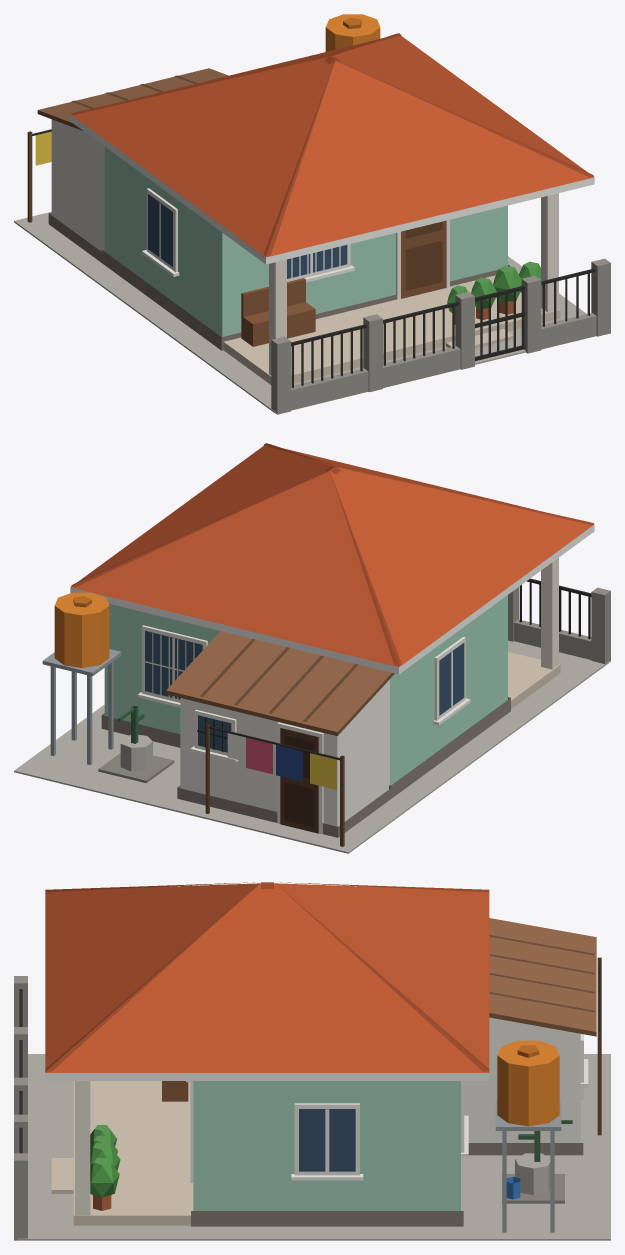
File: rumah_03.glb
3 views of the same model, one above another, from view 1: azimuth 30°, elevation 25°; view 2: azimuth 150°, elevation 25°; view 3: azimuth 270°, elevation 25° (orthographic). The views are drawn at different scales.
Visible parts, largest first — view 1: rumah_03; view 2: rumah_03; view 3: rumah_03.
Part boxes in pixels (x1,y1,x2,y2): rumah_03: (14,14,610,414); rumah_03: (14,443,610,853); rumah_03: (14,882,610,1240).
Bounding box in the file's own units: 6.96 × 4.66 × 9.48.
